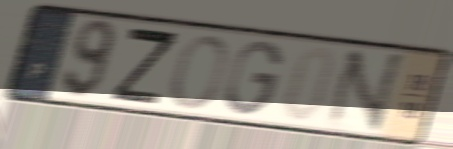0: (280, 44, 341, 125)
9: (58, 16, 117, 104)
G: (223, 39, 286, 118)
N: (320, 49, 412, 136)
O: (168, 33, 230, 112)
Z: (109, 24, 181, 108)
